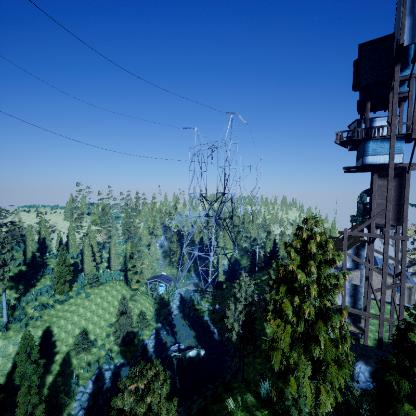tower: (174, 108, 249, 293)
